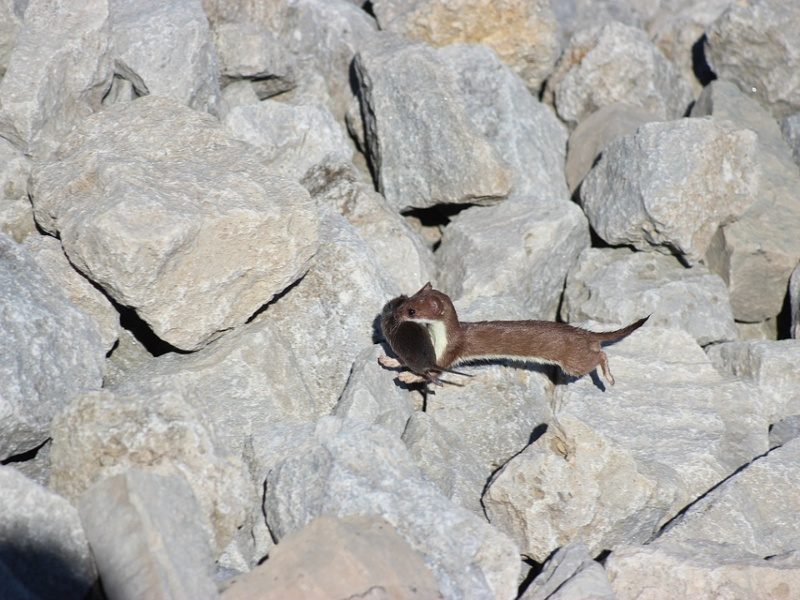minkish: (376, 279, 664, 403)
